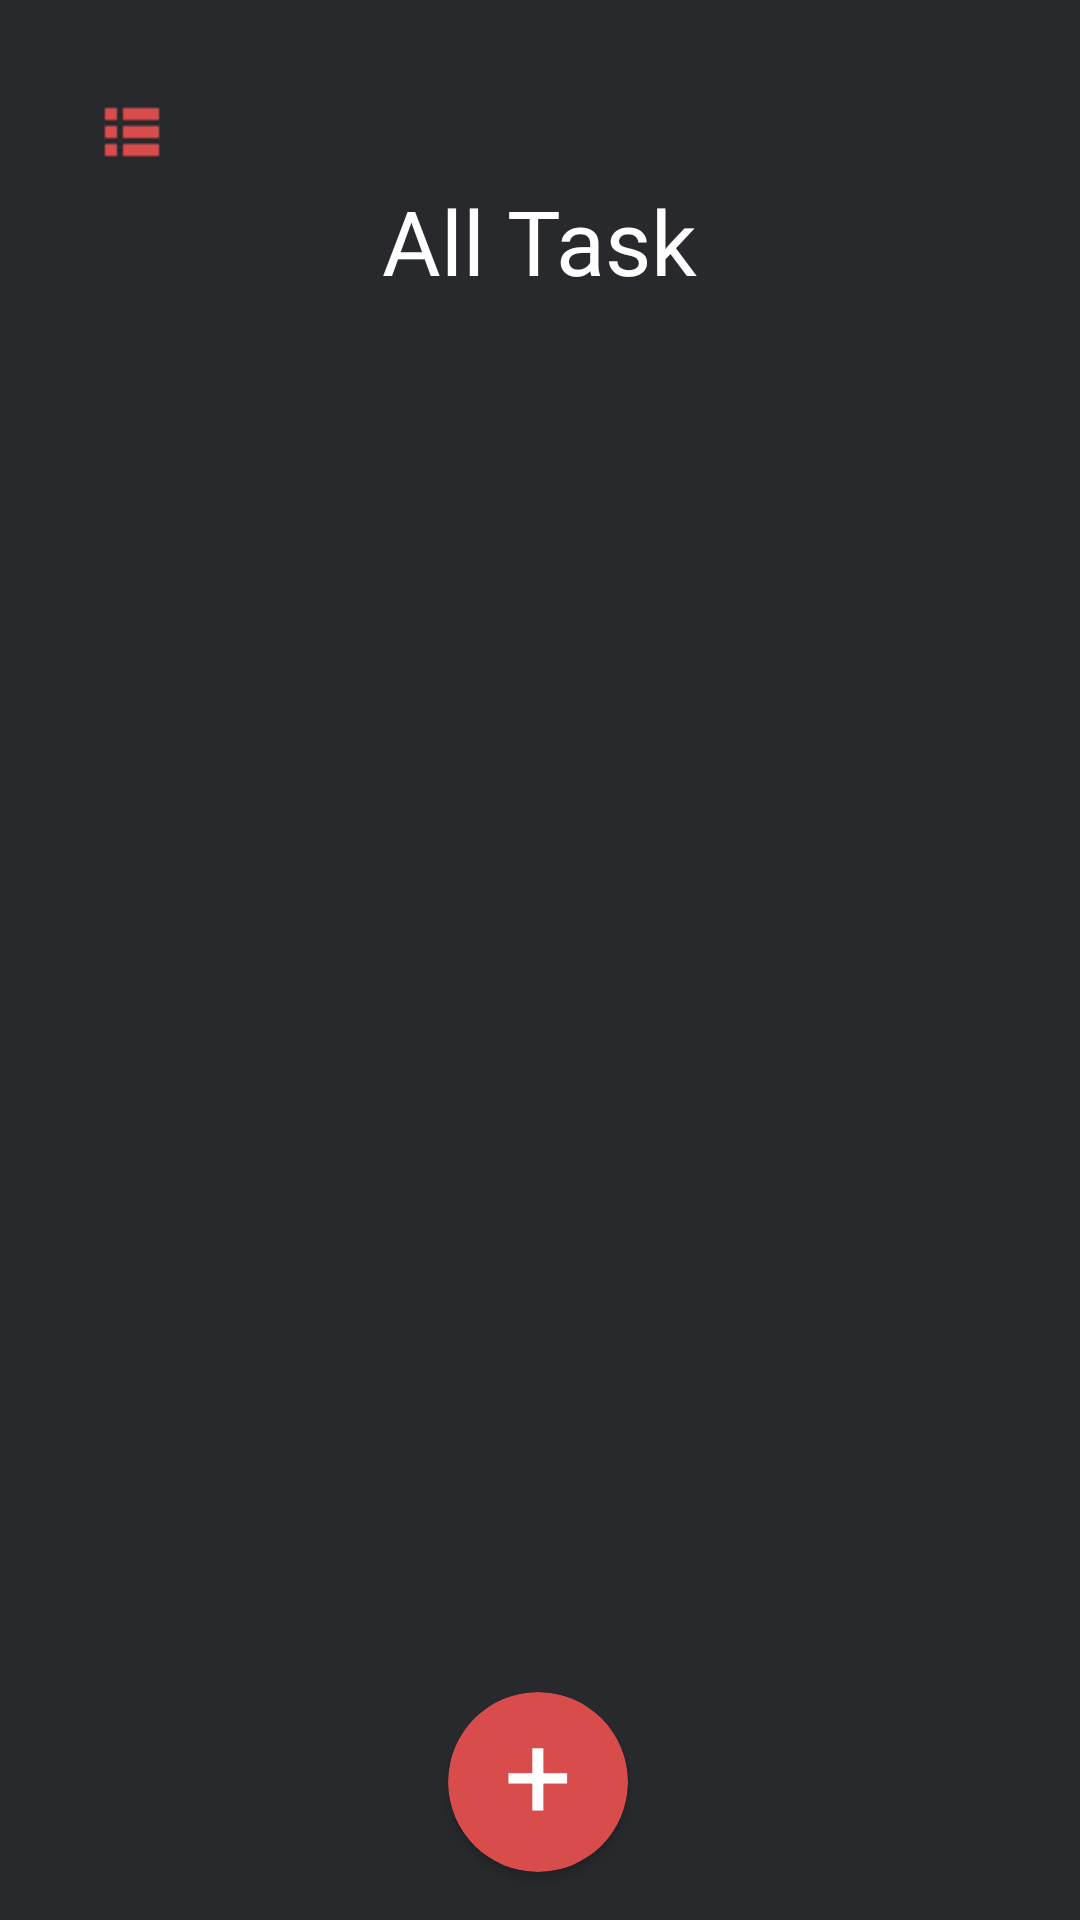

Where icons sit on this 1080×1920 app screen, as region(x1, y1, x2, y2):
drawer menu: region(104, 107, 160, 157)
